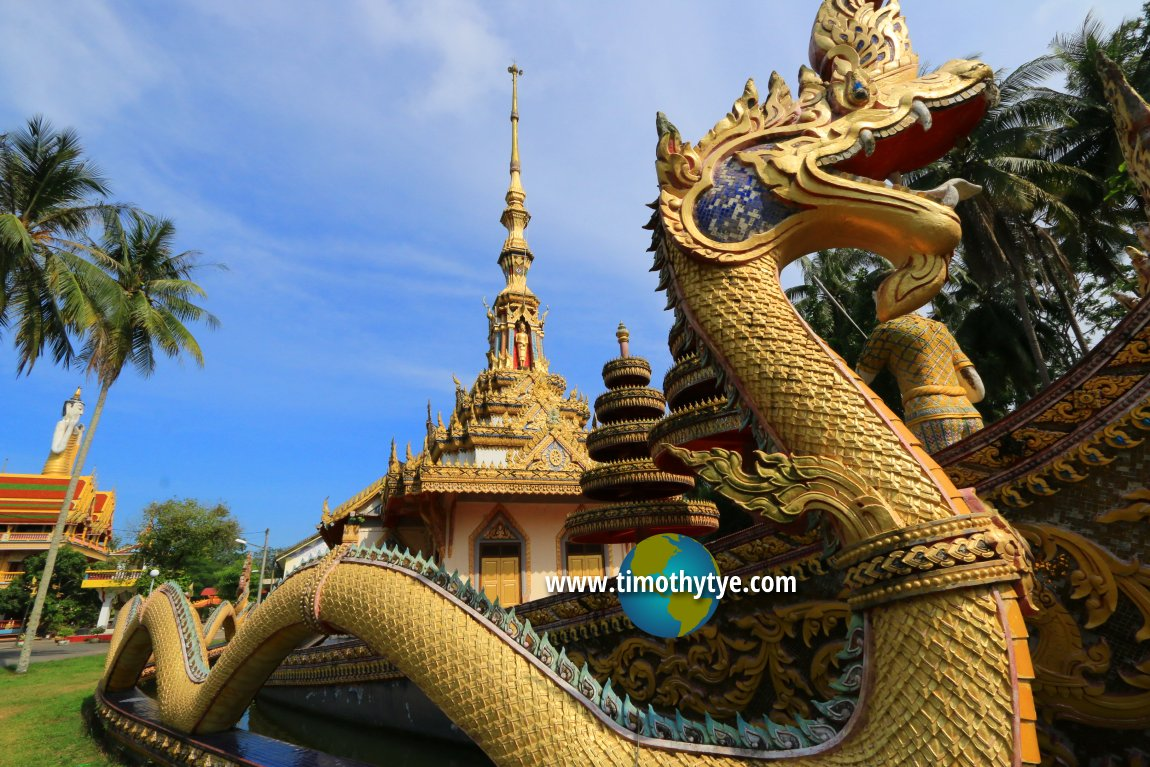Buddhist Temple: (385, 46, 590, 518)
